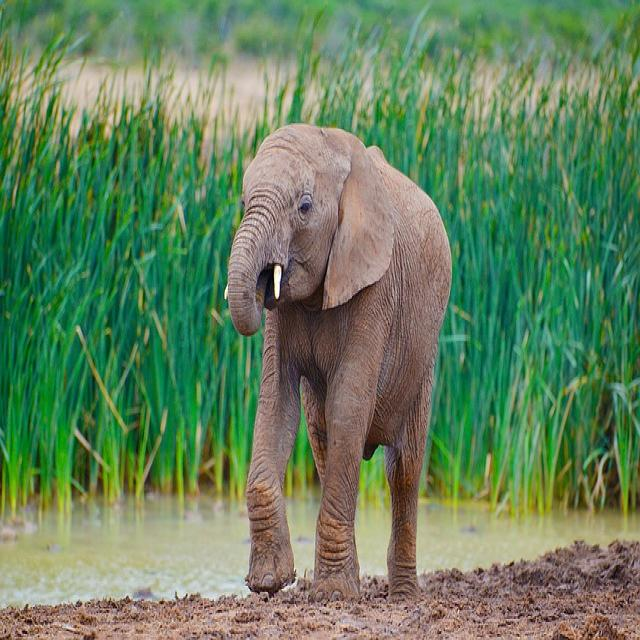elephant: (226, 124, 450, 599)
